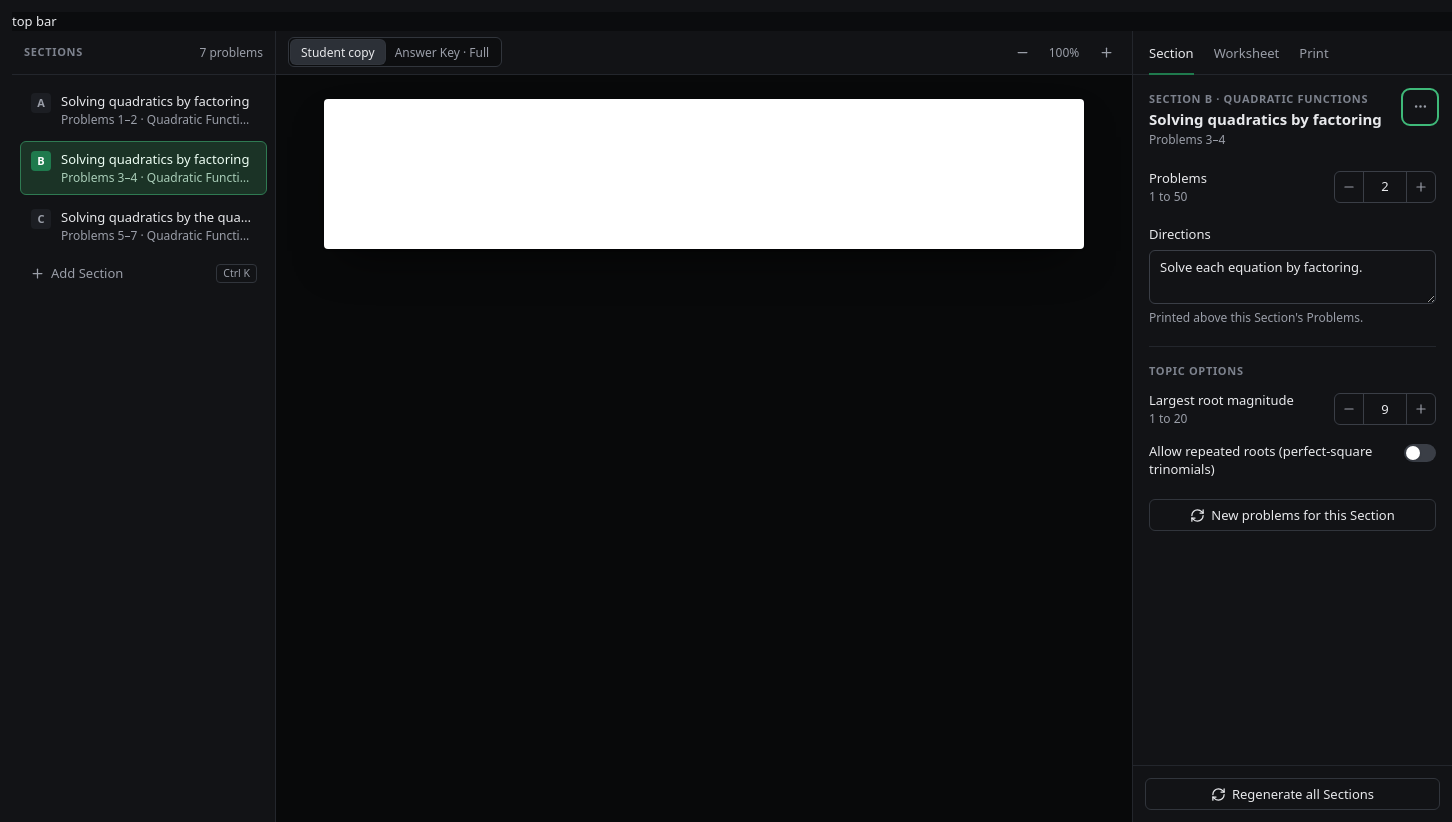
Scenario: Editor: Section tab › duplicates, moves and deletes through the Section menu, with Undo
The image size is (1452, 822).
Earlier steps of the test are not shown.
Later steps or results of the test are not shown.
Check: the button that starts with "Solving quadratics by factoring" is marked as current, box [20, 141, 267, 195]
Press Enter
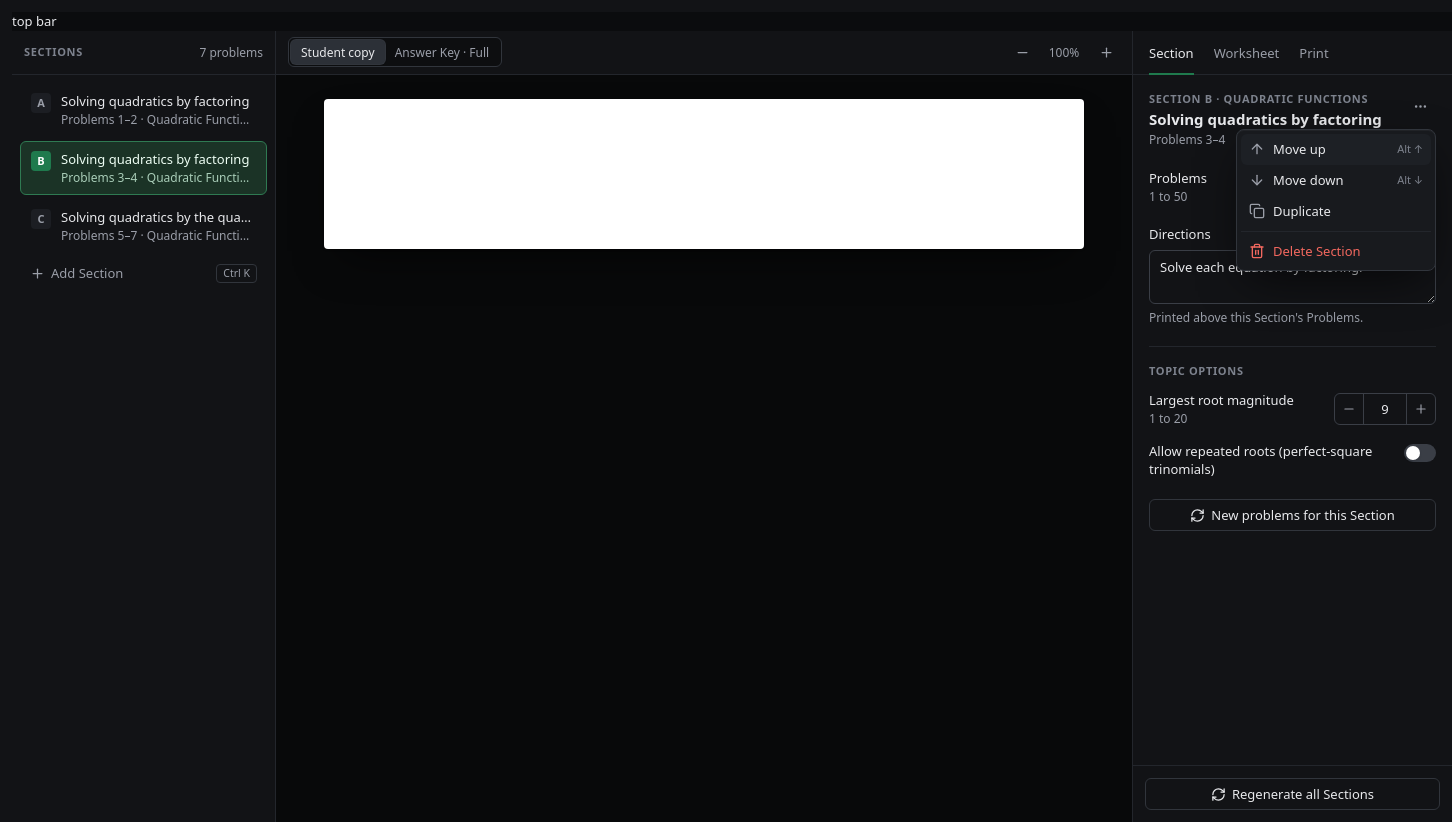
Click the menu item "Move down Alt ↓": (1336, 180) [1249, 171, 1423, 189]
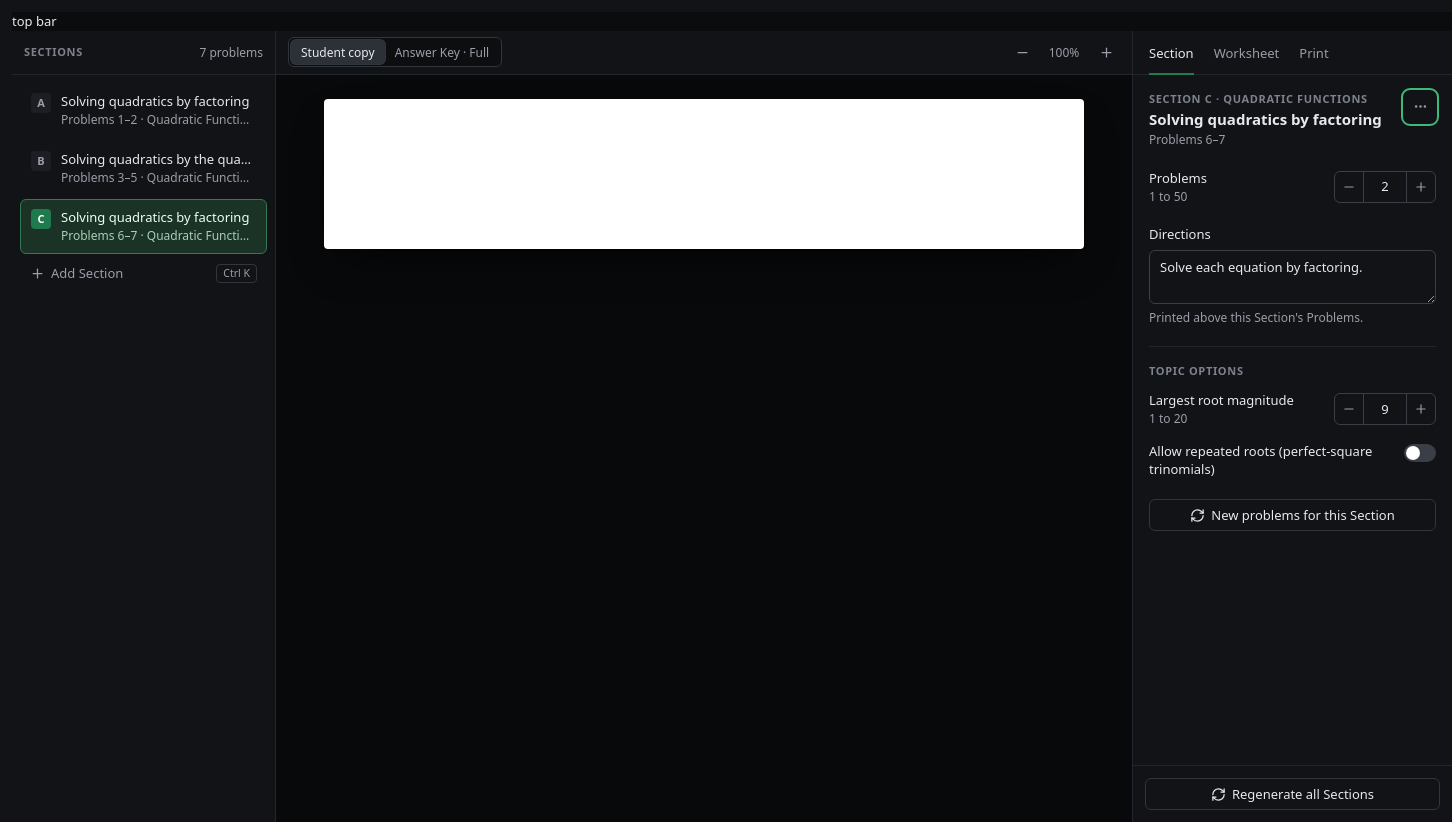
Check: the button that starts with "Solving quadratics by factoring" shows "Problems 6–7", box [20, 199, 267, 254]
Press Enter
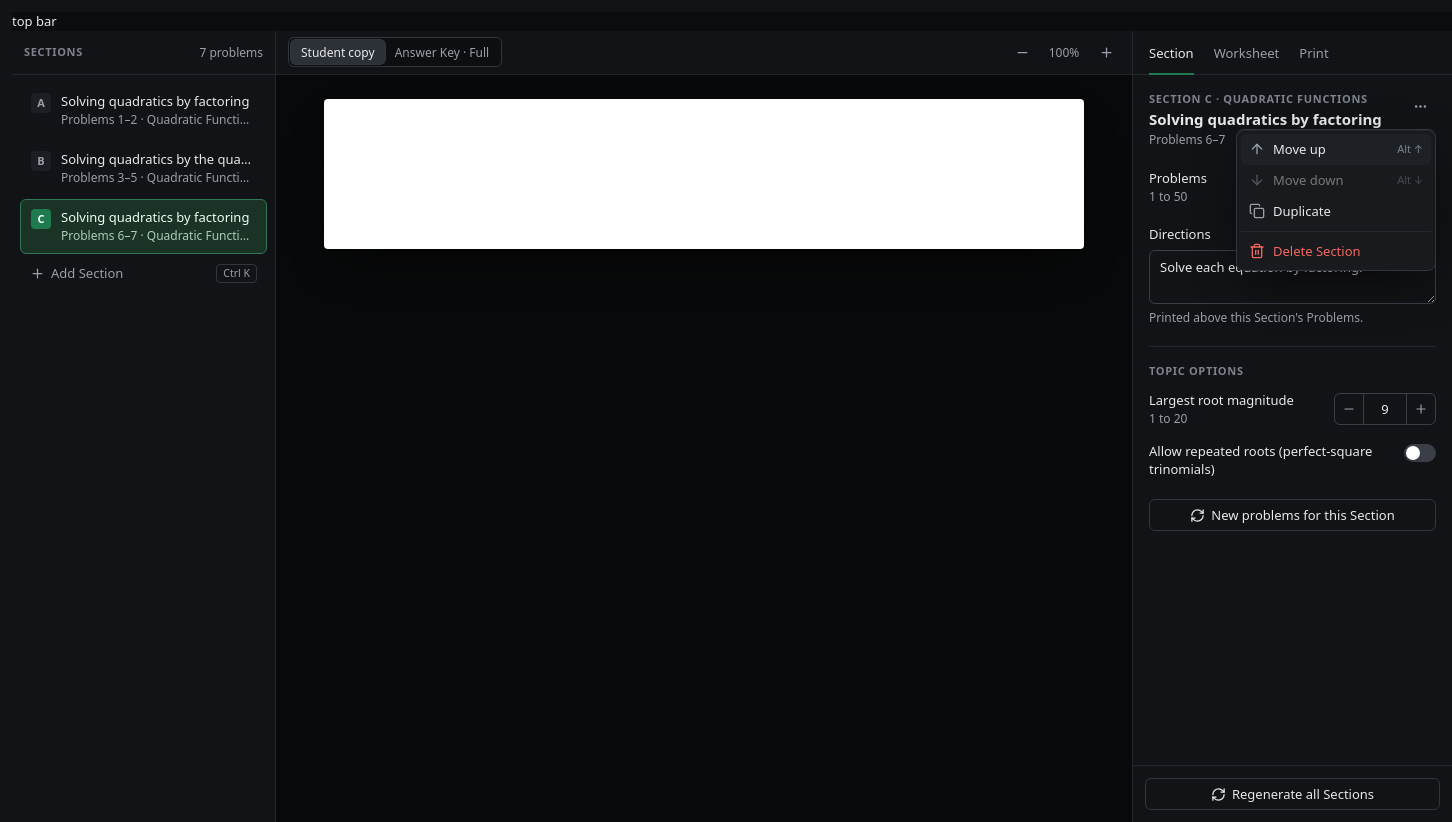
Click the menu item "Move up Alt ↑": (1336, 149) [1241, 134, 1431, 165]
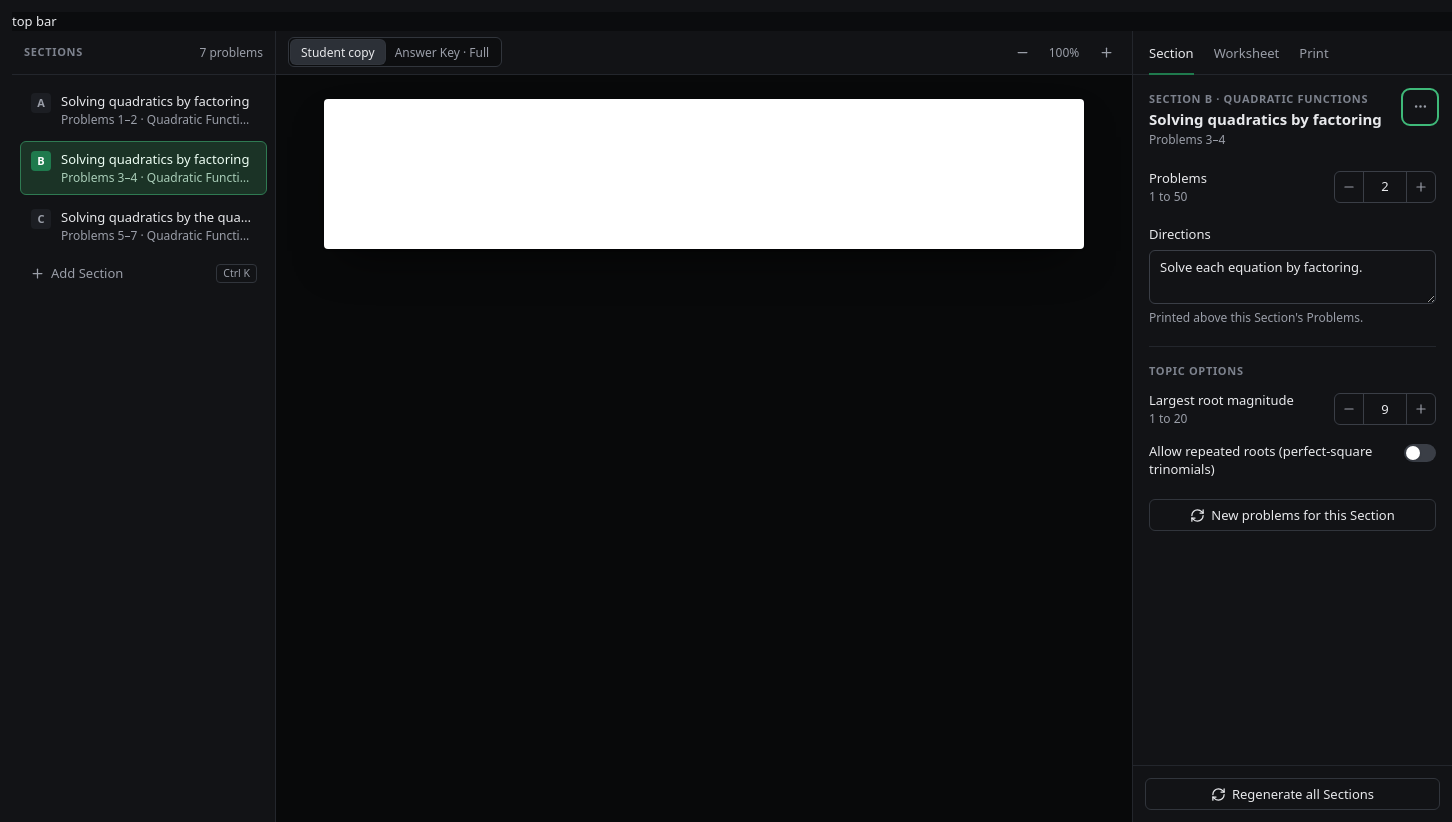
Press Enter
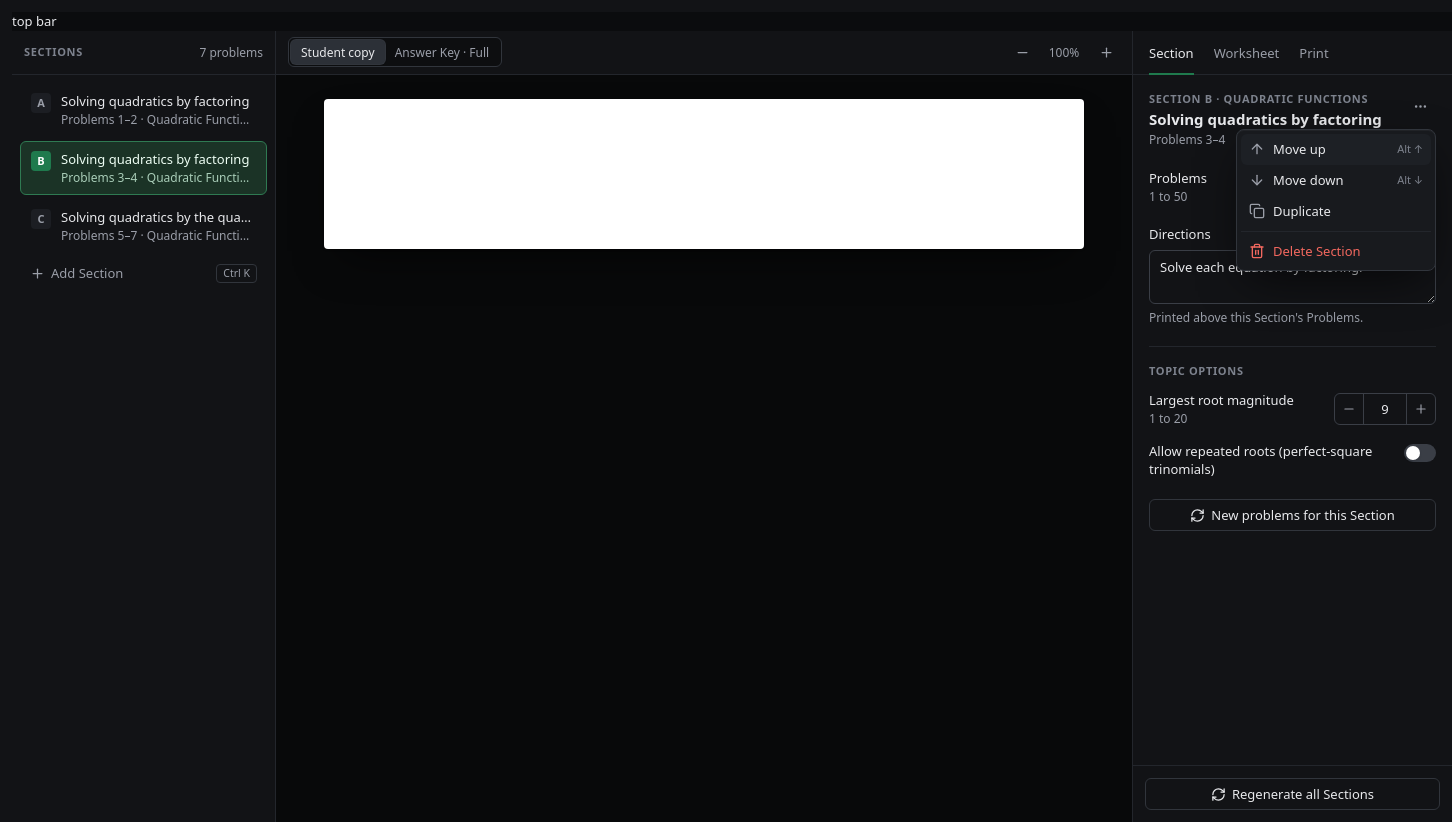
Click the menu item "Delete Section": (1305, 250) [1249, 242, 1361, 260]
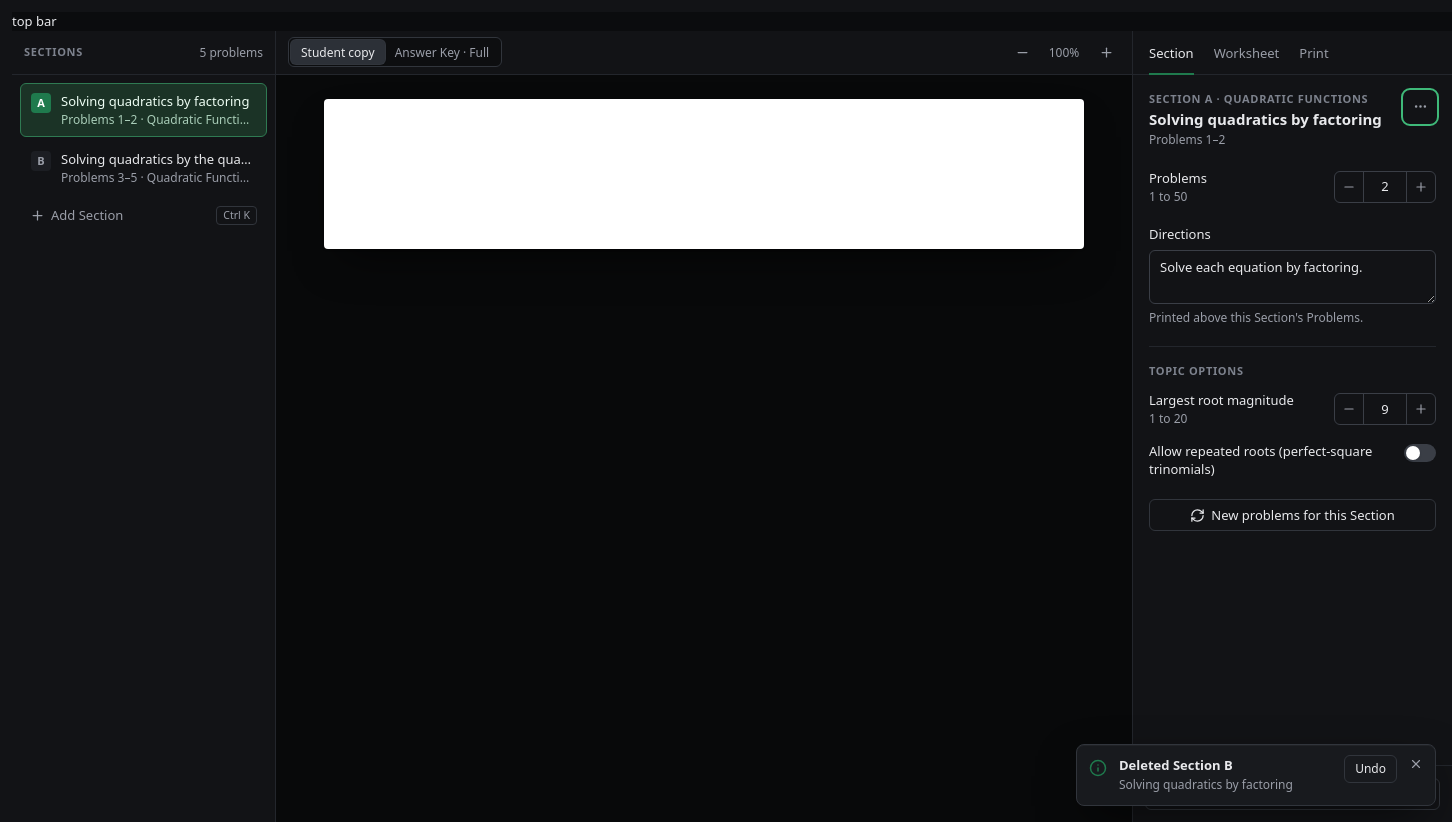
Check: the text "Problems 3–5" is shown, box [20, 141, 267, 195]
